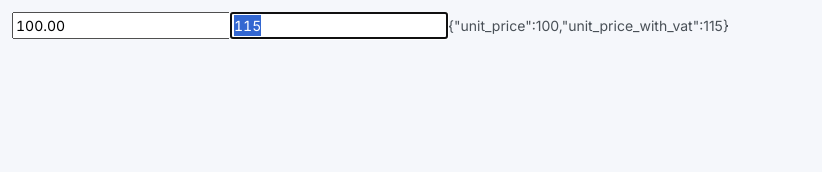
Test case: PriceInput › Escape restores the price from before the edit and keeps the modal open
Replace the text in the field with test id "inc" with "999": (339, 26) [230,12,448,39]
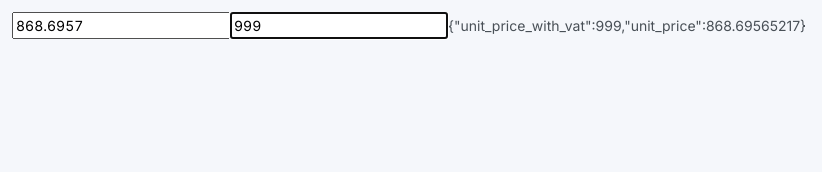
Press Escape in the field with test id "inc", box [230,12,448,39]
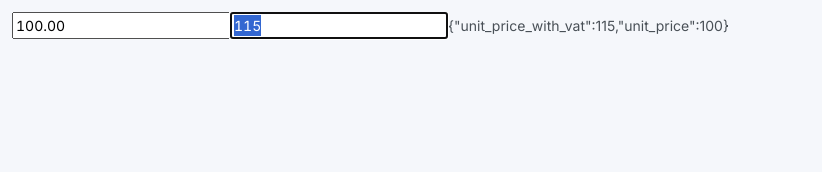
Now the field with test id "inc" holds "115", box [230,12,448,39]
